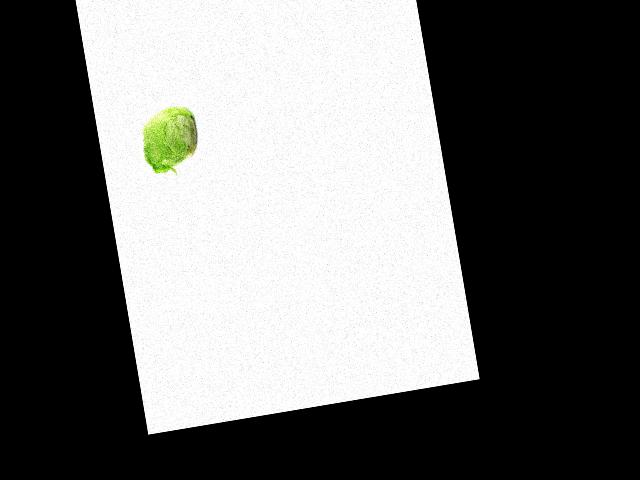lettuce: (134, 101, 204, 173)
